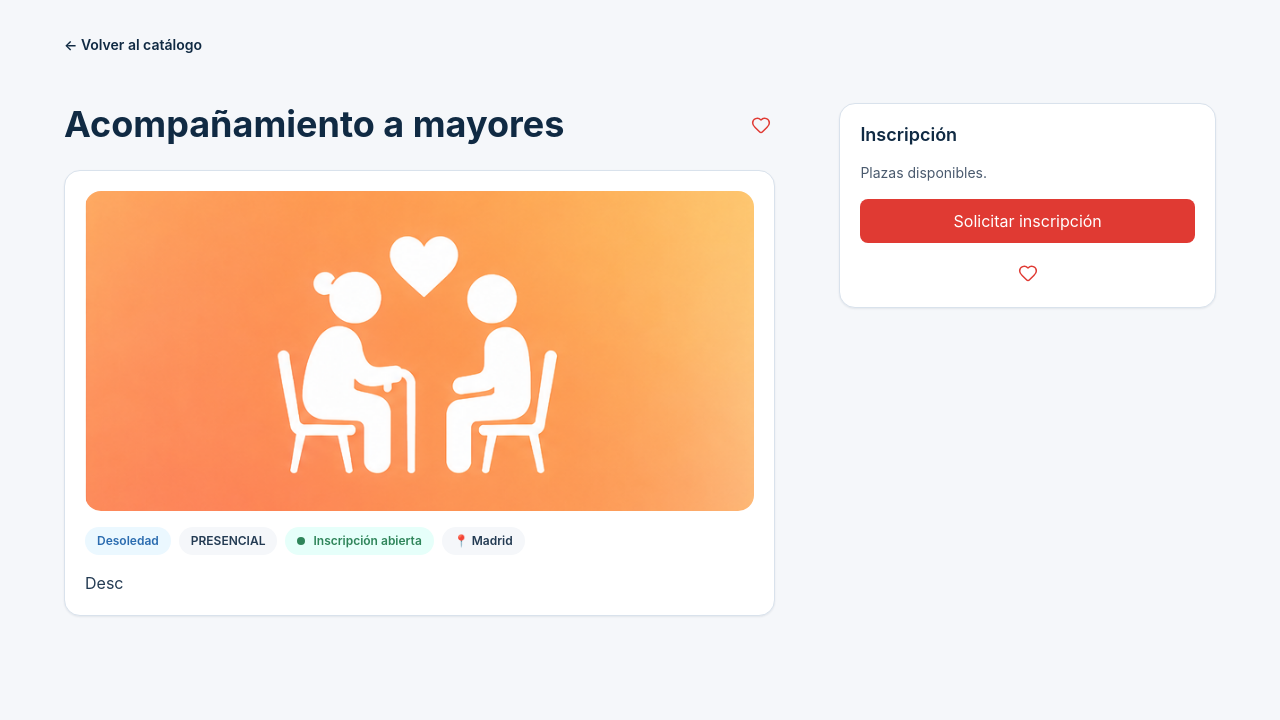
Test: Registrations sync #43 - tarjeta y ficha sin recargar › revierte ante error y permite reintentar
Expected: the heading "Acompañamiento a mayores" is shown, [64,103,564,146]
Click the button with test id "open-registration-modal".
click(1028, 221)  # box [860,199,1195,243]
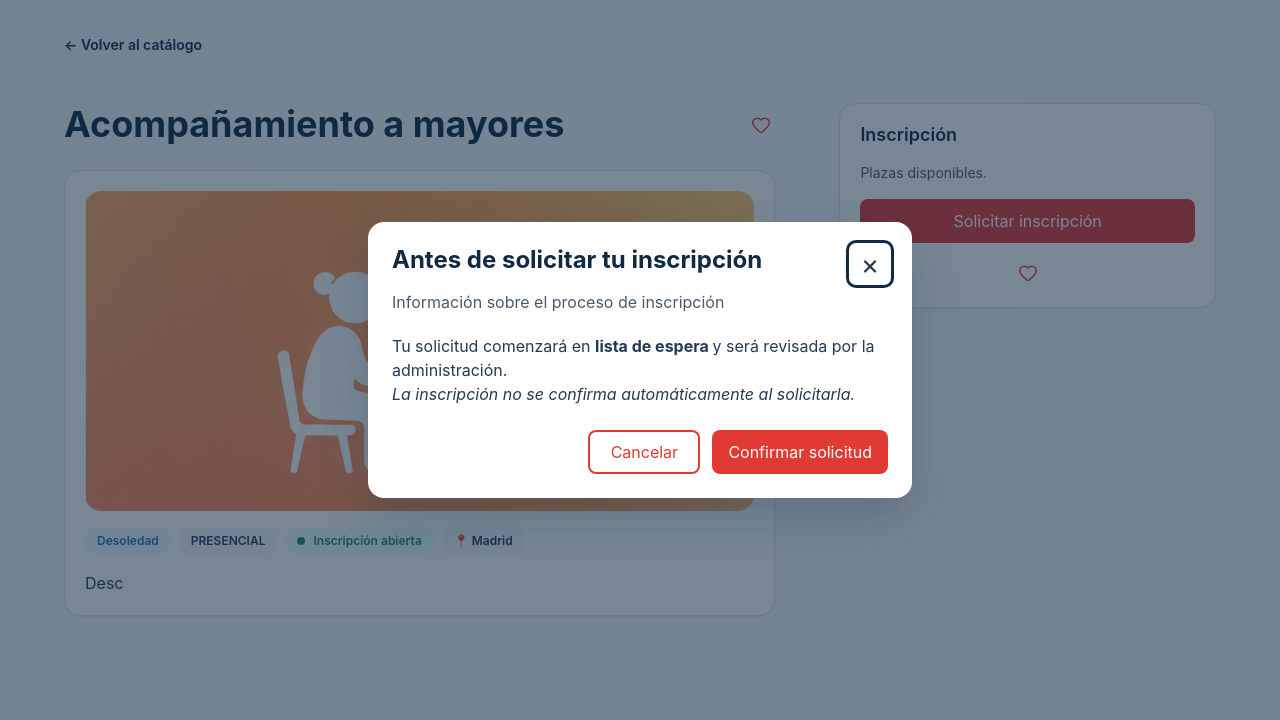
Now the dialog is shown, box [368,222,912,498]
Click the button with test id "confirm-registration".
click(800, 452)  # box [712,430,888,474]
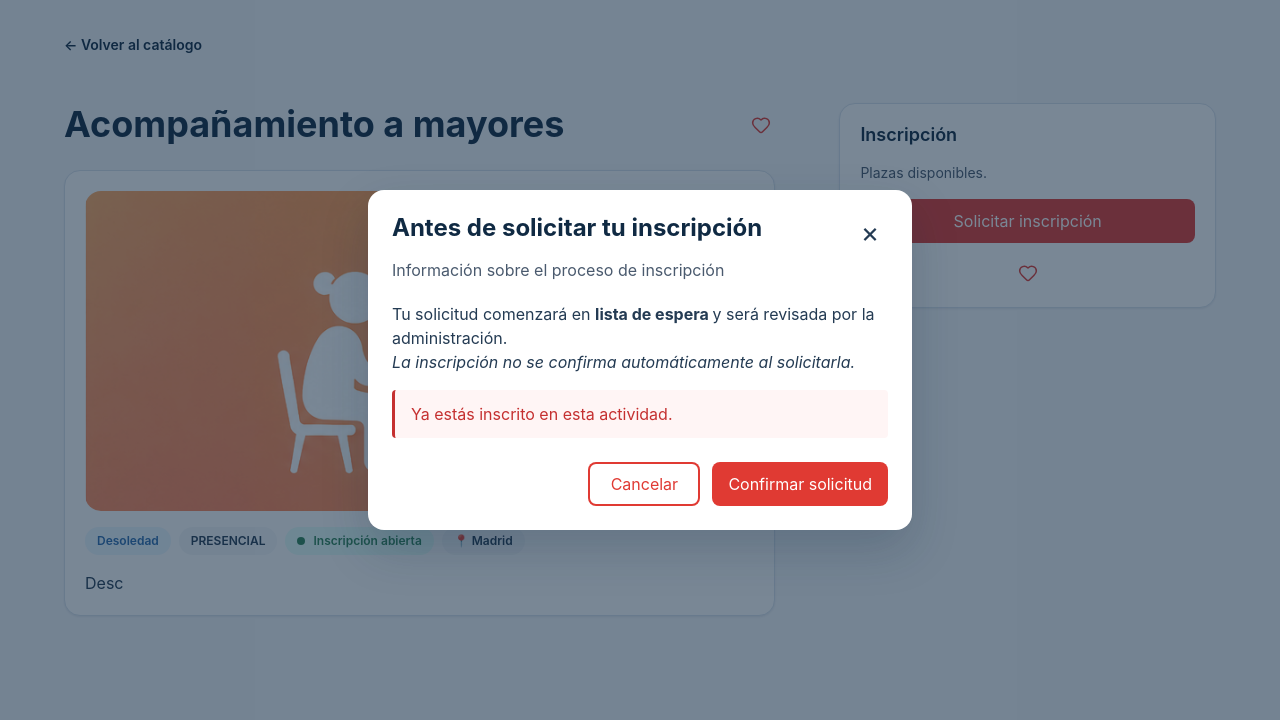
Expected: the text "Ya estás apuntado" is not shown
Now the dialog is shown, box [368,190,912,530]
Now the text "Ya estás inscrito en esta actividad." is shown, box [392,390,888,438]
retry — second confirm should succeed
Click the button with test id "confirm-registration".
click(800, 484)  # box [712,462,888,506]
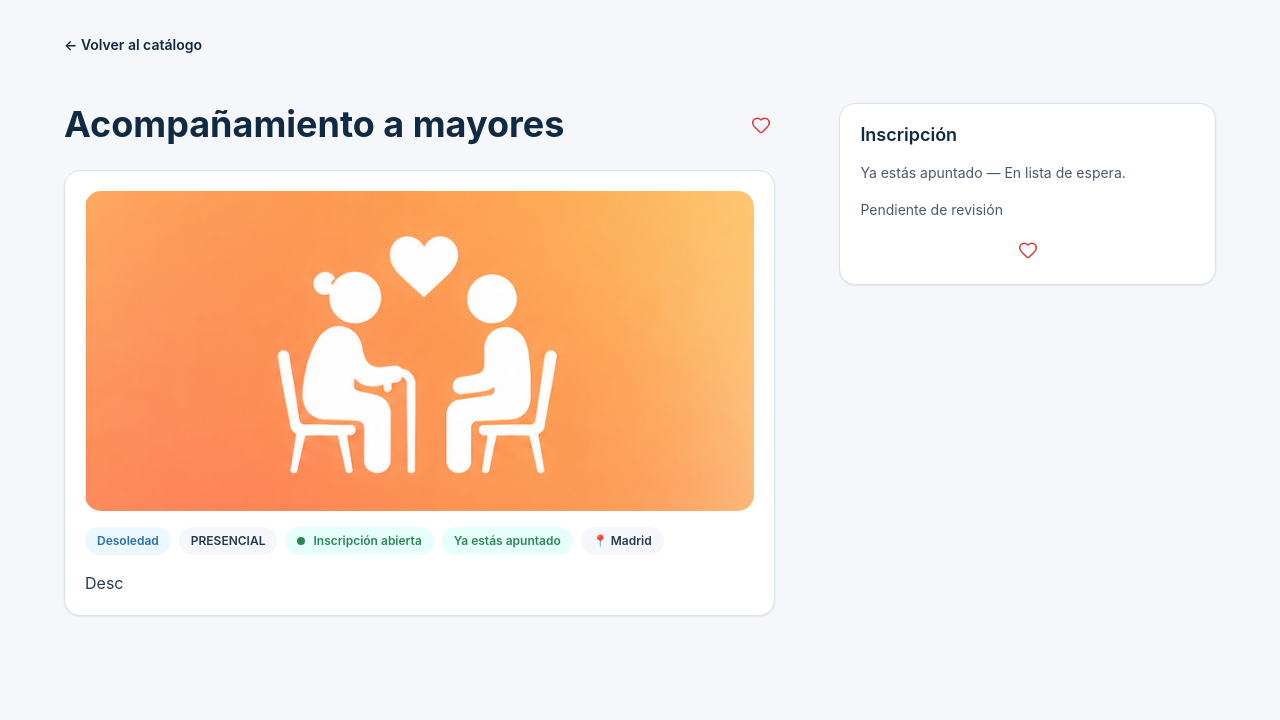
Now the text "Ya estás apuntado — En lista de espera." is shown, box [860,164,1126,181]
